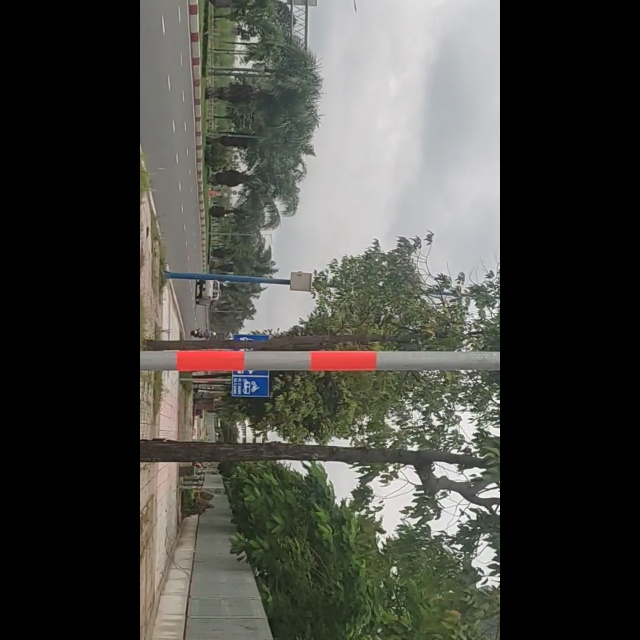bien_chi_dan: (162, 333, 237, 398)
